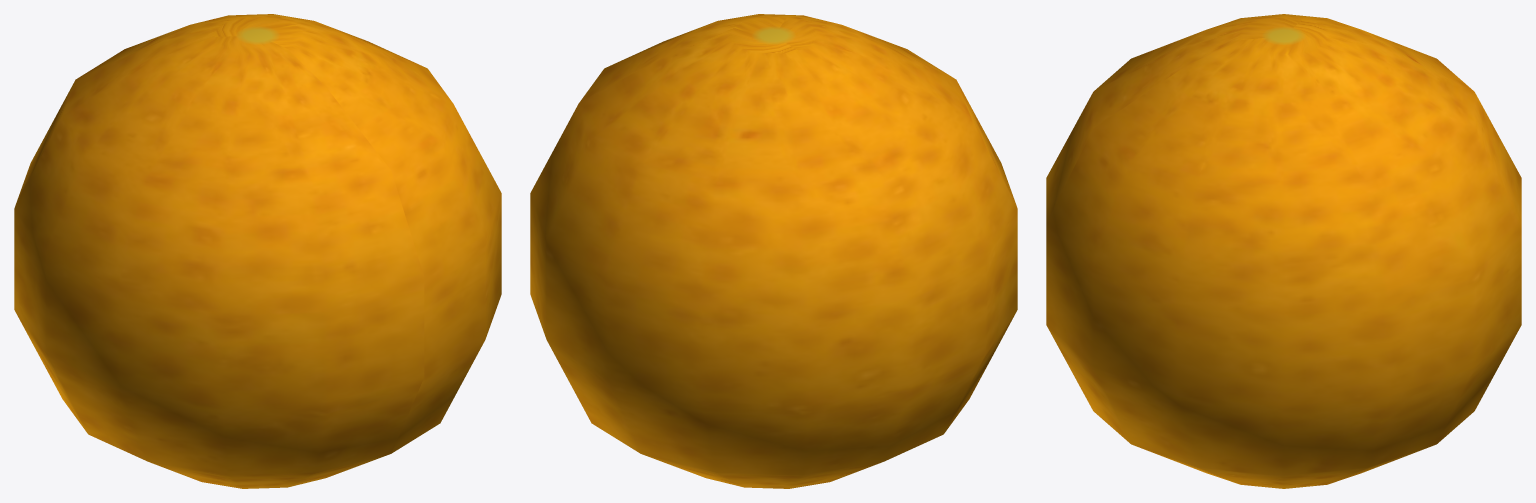
File: Orange.fbx
The picture shows the model from 3 angles, left to right: view 1: azimuth 30°, elevation 25°; view 2: azimuth 150°, elevation 25°; view 3: azimuth 270°, elevation 25°; orthographic projection.
Parts seen in each view (by area): view 1: Orange; view 2: Orange; view 3: Orange.
Boxes of the visible parts, bbox=[...] form: Orange: bbox=[14, 14, 501, 488]; Orange: bbox=[530, 14, 1017, 488]; Orange: bbox=[1046, 14, 1521, 488].
Size of the model in its own units: 0.0295 by 0.0287 by 0.0287.
Materials: 1 (1 with a texture image).
